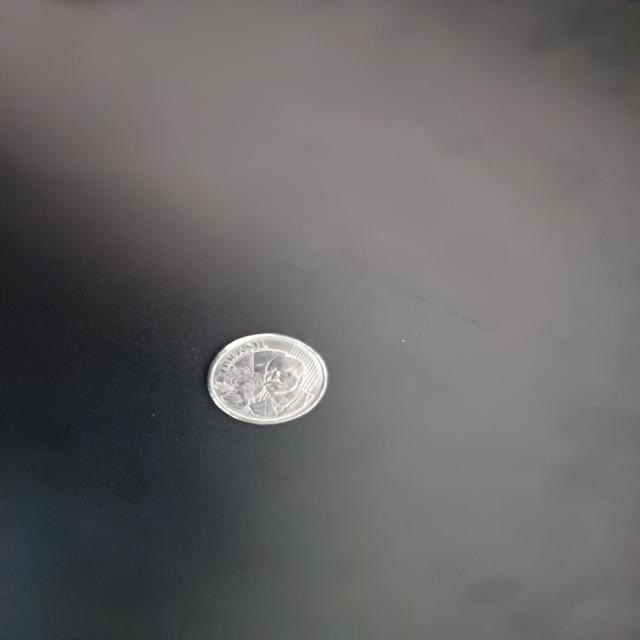50 cents: (208, 330, 330, 429)
